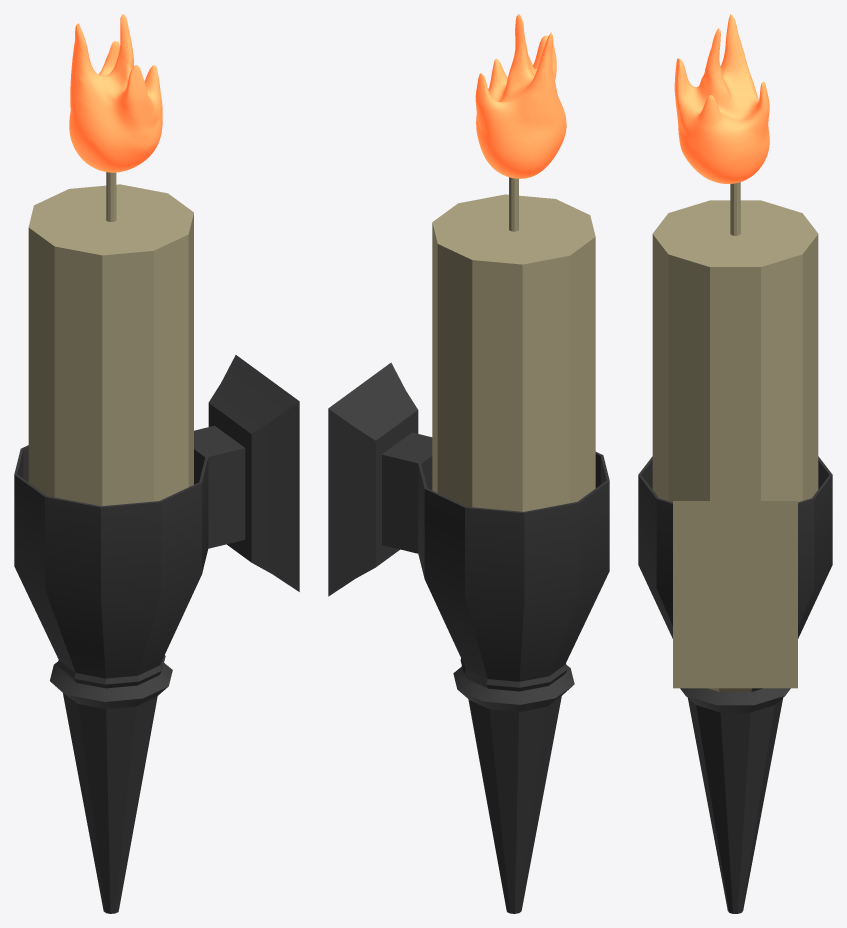
File: Torch.fbx
3 views of the same model, side by side, from view 1: azimuth 30°, elevation 25°; view 2: azimuth 150°, elevation 25°; view 3: azimuth 270°, elevation 25° (orthographic). The views are drawn at different scales.
Parts seen in each view (by area): view 1: Candle 5.003; view 2: Candle 5.003; view 3: Candle 5.003.
Boxes of the visible parts, box(x1,y1,x2,y2) form: Candle 5.003: box(14, 14, 299, 913); Candle 5.003: box(328, 14, 609, 913); Candle 5.003: box(638, 14, 832, 913).
Size of the model in its own units: 52.94 by 192 by 38.2.
